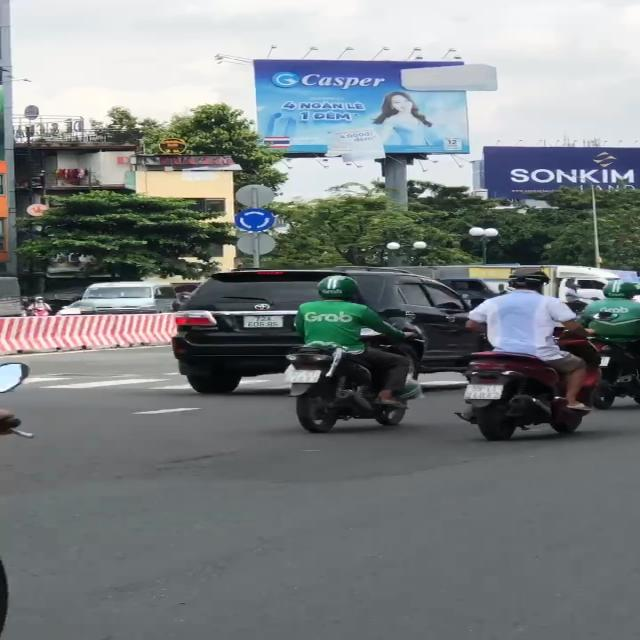Bien bao noi giao nhau chay theo vong xuyen: (233, 207, 275, 233)
